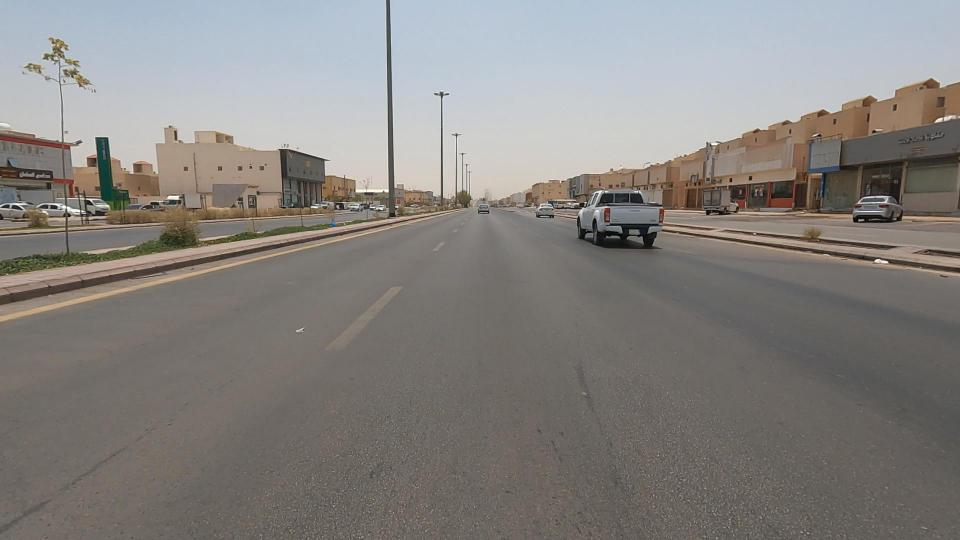BAD_BILLBOARD: (754, 110, 903, 191)
